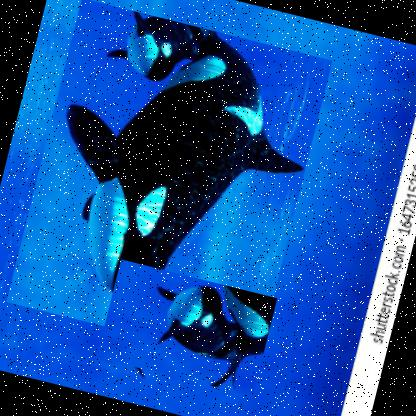killer_whale: (5, 0, 333, 365), (96, 258, 278, 396)
